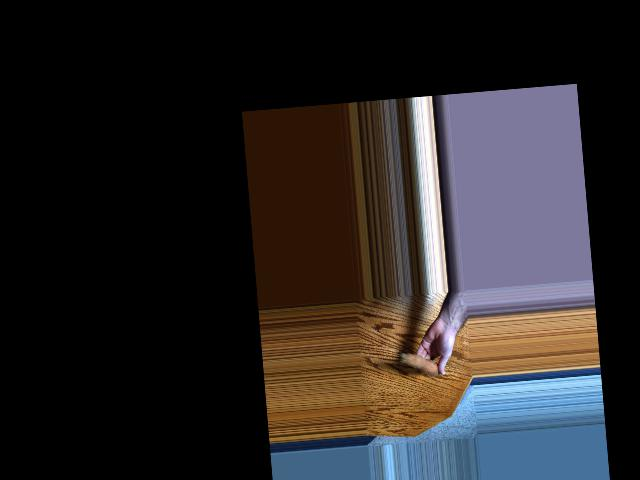sweet_potato: (399, 347, 443, 379)
